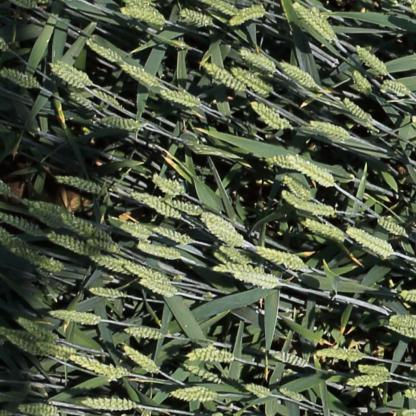whd: (0, 228, 63, 272), (59, 210, 118, 247), (68, 355, 127, 379), (201, 60, 245, 92), (346, 228, 392, 257), (295, 158, 333, 192), (46, 233, 98, 257), (280, 192, 333, 215), (133, 192, 177, 219), (52, 58, 94, 86), (124, 262, 170, 287), (51, 58, 93, 85), (256, 247, 306, 269), (78, 396, 139, 414), (119, 62, 161, 88), (250, 101, 289, 129), (232, 66, 271, 94), (308, 5, 336, 43), (354, 43, 388, 74), (197, 211, 239, 236), (185, 344, 237, 364), (16, 318, 56, 342), (122, 346, 156, 374), (204, 222, 242, 247), (5, 336, 50, 357), (302, 219, 344, 241), (48, 308, 102, 325), (280, 61, 315, 87), (55, 176, 105, 194), (239, 47, 275, 72), (0, 213, 40, 235), (183, 363, 221, 385), (20, 199, 68, 216), (342, 96, 371, 124), (168, 385, 218, 401), (137, 278, 177, 298), (308, 119, 350, 138), (86, 38, 119, 62), (152, 226, 193, 245), (89, 255, 129, 274), (1, 67, 38, 87), (134, 243, 180, 259), (166, 200, 205, 218), (283, 176, 311, 201), (266, 151, 295, 175), (269, 350, 307, 368), (380, 321, 416, 340), (150, 175, 184, 195), (120, 7, 162, 23), (158, 89, 200, 105), (345, 374, 389, 389), (315, 347, 362, 361), (121, 7, 162, 23), (232, 274, 278, 288), (84, 239, 124, 255), (218, 245, 250, 265), (211, 262, 256, 276), (90, 88, 121, 108), (32, 344, 76, 358), (350, 67, 372, 95), (228, 7, 264, 24), (376, 217, 407, 236), (18, 402, 60, 416), (1, 328, 42, 342), (98, 117, 140, 130), (118, 221, 150, 238), (178, 9, 212, 25), (243, 382, 272, 400), (123, 326, 163, 339), (67, 90, 93, 109), (204, 0, 236, 15), (380, 80, 411, 94), (87, 287, 126, 298), (278, 386, 306, 401), (390, 312, 416, 328), (357, 366, 391, 378), (0, 177, 13, 197), (13, 0, 37, 8), (399, 290, 415, 302), (403, 387, 415, 399)
